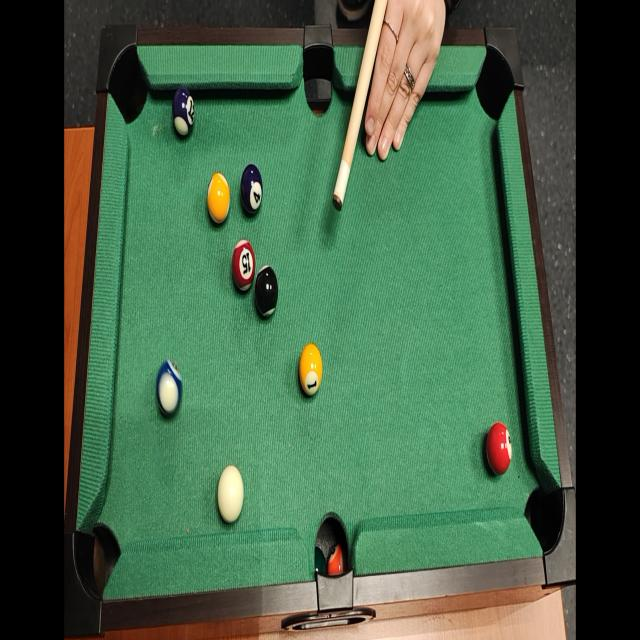cue ball: (215, 462, 245, 528)
other: (154, 354, 185, 416), (204, 168, 234, 230), (252, 261, 279, 323), (170, 80, 197, 140), (230, 236, 257, 296), (487, 418, 512, 480), (298, 339, 324, 396), (240, 163, 266, 218)
